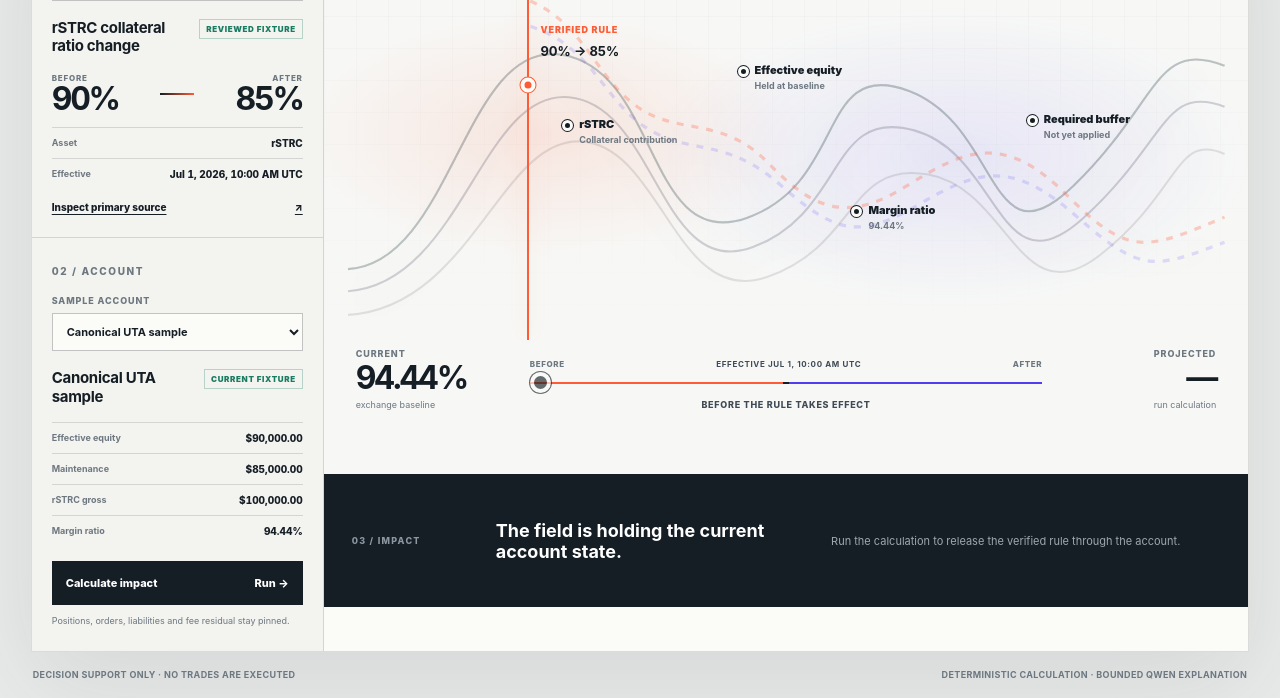
Test: sample-mode risk desk › takes a first-time user from reviewed evidence to an inspectable impact result
(page scrolled)
Expected: the dropdown labelled "Sample account" shows "Canonical UTA sample", [52,313,303,351]
Expected: the heading "rSTRC collateral ratio change" is shown, [52,18,165,55]
Click the button "Calculate impact Run →". click: (177, 583)
box: [52,561,303,605]
(page scrolled)
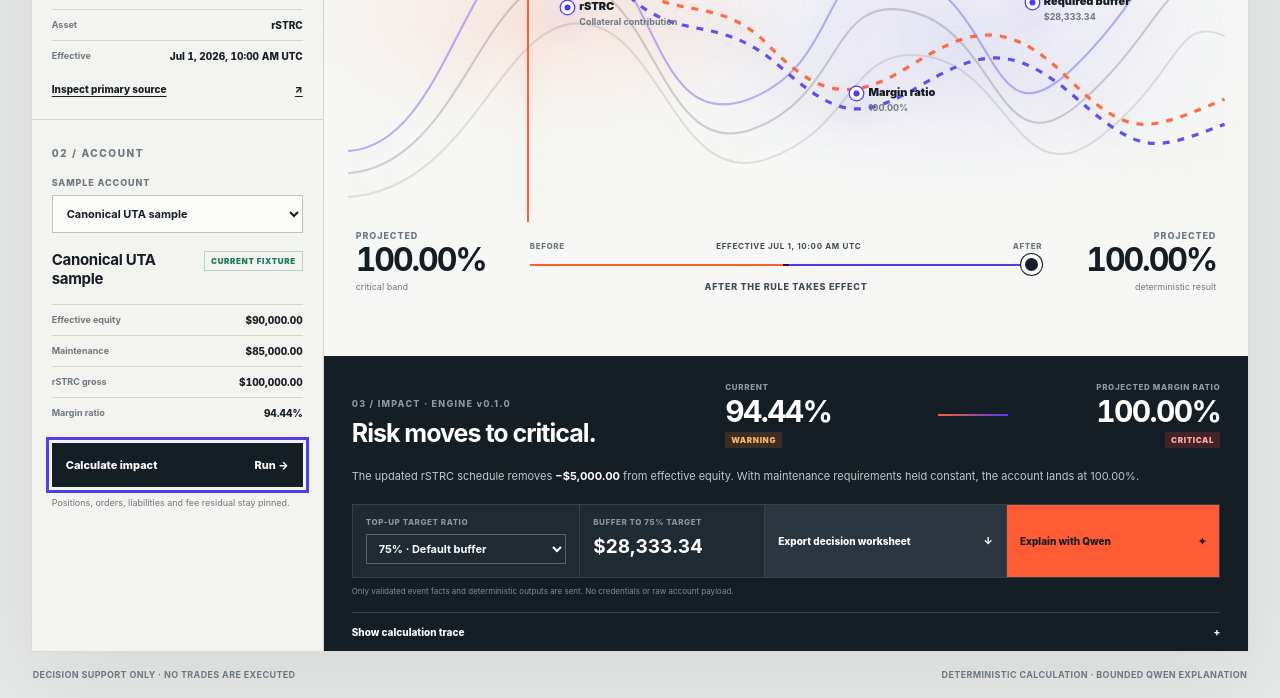
Expected: the text "Projected margin ratio" is shown, [1096,382,1220,392]
Expected: the text "100.00%" below "Collateral contribution" is shown, [868,102,908,113]
Expected: the text "Warning" is shown, [725,432,782,448]
Click the button "Show calculation trace +". click: (422, 632)
box: [352,612,1220,651]
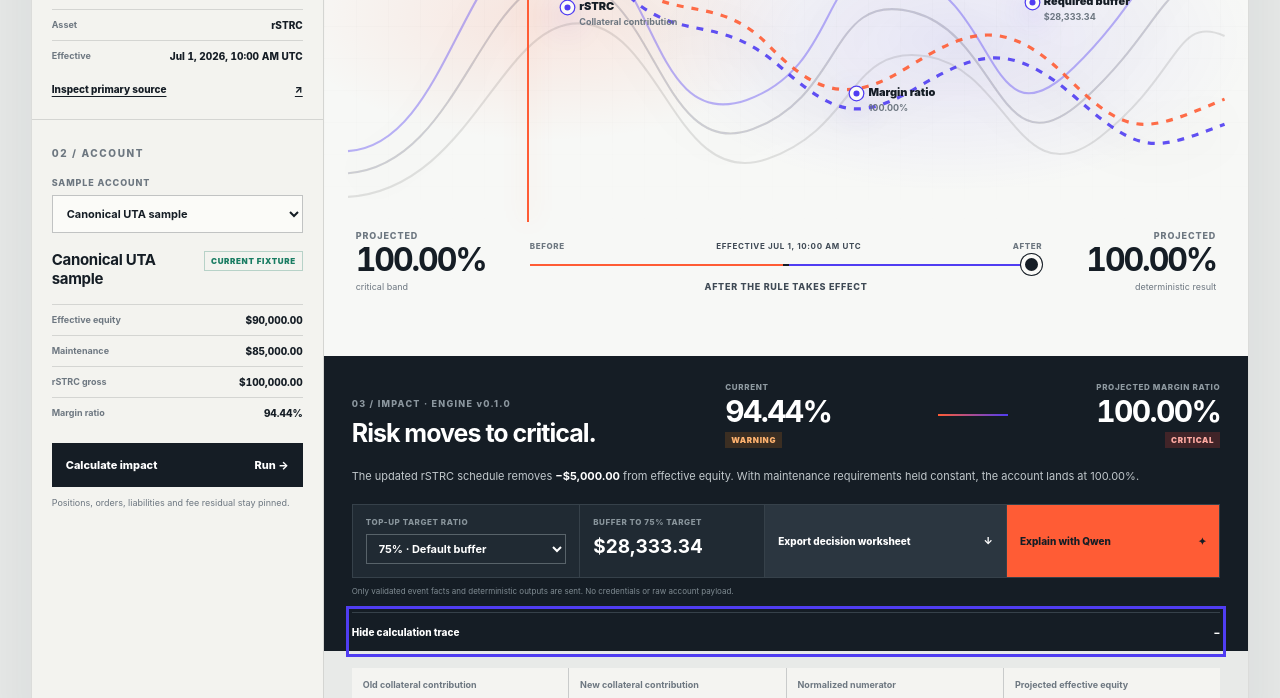
Expected: the text "Normalized numerator" is shown, [798,679,896,690]
Select "80% · Warning ceiling" in the dropdown labelled "Top-up target ratio". click: (466, 549)
box: [366,534,566,564]
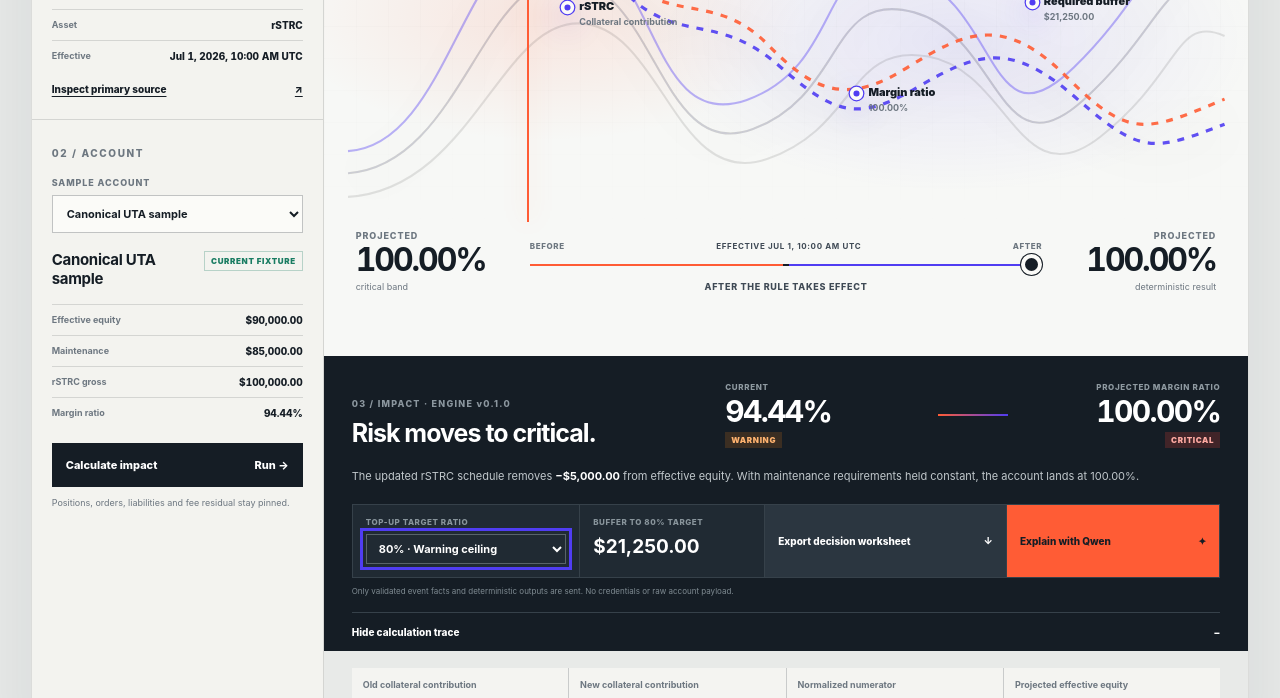
Expected: the text "$21,250.00" below "Required buffer" is shown, [1044,11,1094,22]
Expected: the text "Buffer to 80% target" is shown, [593,517,703,527]
